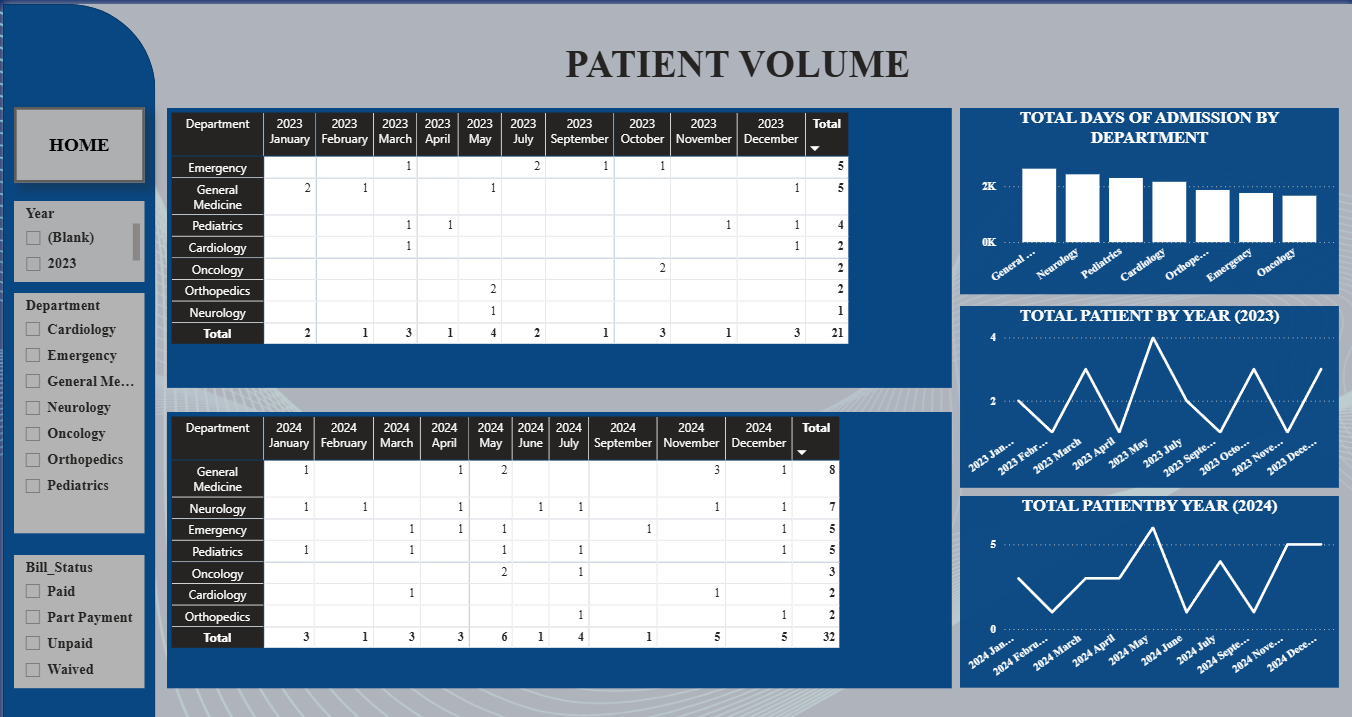

The page's visual inventory and layout, read from the dashboard file:
{"tool":"powerbi","page":{"name":"Patient Volume","canvas":[1500,820],"ordinal":2},"visuals":[{"type":"shape","box":[0,0,169.4,820],"z":0},{"type":"pivotTable","fields":{"Values":["main sheet.TOTAL PATIENT"],"Columns":["dim date.Year Month"],"Rows":["main sheet.Department"]},"box":[182.4,115.3,871.8,310.6],"z":1000},{"type":"pivotTable","fields":{"Values":["main sheet.TOTAL PATIENT"],"Columns":["dim date.Year Month"],"Rows":["main sheet.Department"]},"box":[182.4,452.9,871.8,307.1],"z":2000},{"type":"columnChart","title":"TOTAL DAYS OF ADMISSION BY DEPARTMENT","fields":{"Category":["main sheet.Department"],"Y":["Sum(main sheet.Days_Admitted)"]},"box":[1063.5,115.3,421.2,207.1],"z":3000},{"type":"textbox","box":[561.2,36.5,510.6,63.5],"z":4000},{"type":"lineChart","title":"TOTAL PATIENT BY YEAR (2023)","fields":{"Y":["main sheet.TOTAL PATIENT"],"Category":["dim date.Year Month"]},"box":[1063.5,335.3,421.2,202.4],"z":10000},{"type":"lineChart","title":"TOTAL PATIENTBY YEAR (2024)","fields":{"Y":["main sheet.TOTAL PATIENT"],"Category":["dim date.Year Month"]},"box":[1063.5,547.1,421.2,212.9],"z":11000},{"type":"slicer","fields":{"Values":["dim date.Year"]},"box":[12.5,219.3,145.5,89.8],"z":12000},{"type":"slicer","fields":{"Values":["main sheet.Department"]},"box":[12.5,321.6,145.5,267],"z":13000},{"type":"slicer","fields":{"Values":["main sheet.Bill_Status"]},"box":[12.5,612.5,145.5,147.7],"z":14000},{"type":"actionButton","title":"HOME ","box":[12.5,114.8,145.5,84.1],"z":15000}]}

Visuals, with their boxes on the page's 1500x820 design canvas (x1, y1, x2, y2). These are canvas units, not pixel positions in the 1352x717 screenshot, which may show the page scaled, cropped or inside an application window:
shape: (0,0,169,820)
pivotTable - main sheet.TOTAL PATIENT x dim date.Year Month: (182,115,1054,426)
pivotTable - main sheet.TOTAL PATIENT x dim date.Year Month: (182,453,1054,760)
"TOTAL DAYS OF ADMISSION BY DEPARTMENT" columnChart: (1064,115,1485,322)
textbox: (561,36,1072,100)
"TOTAL PATIENT BY YEAR (2023)" lineChart: (1064,335,1485,538)
"TOTAL PATIENTBY YEAR (2024)" lineChart: (1064,547,1485,760)
slicer - dim date.Year: (12,219,158,309)
slicer - main sheet.Department: (12,322,158,589)
slicer - main sheet.Bill_Status: (12,612,158,760)
"HOME " actionButton: (12,115,158,199)
